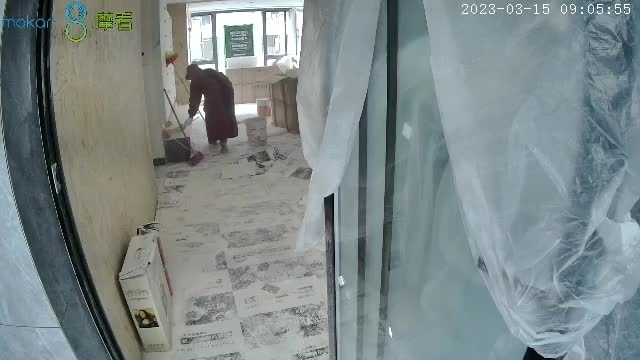people: (185, 64, 238, 151)
window: (189, 9, 303, 70)
